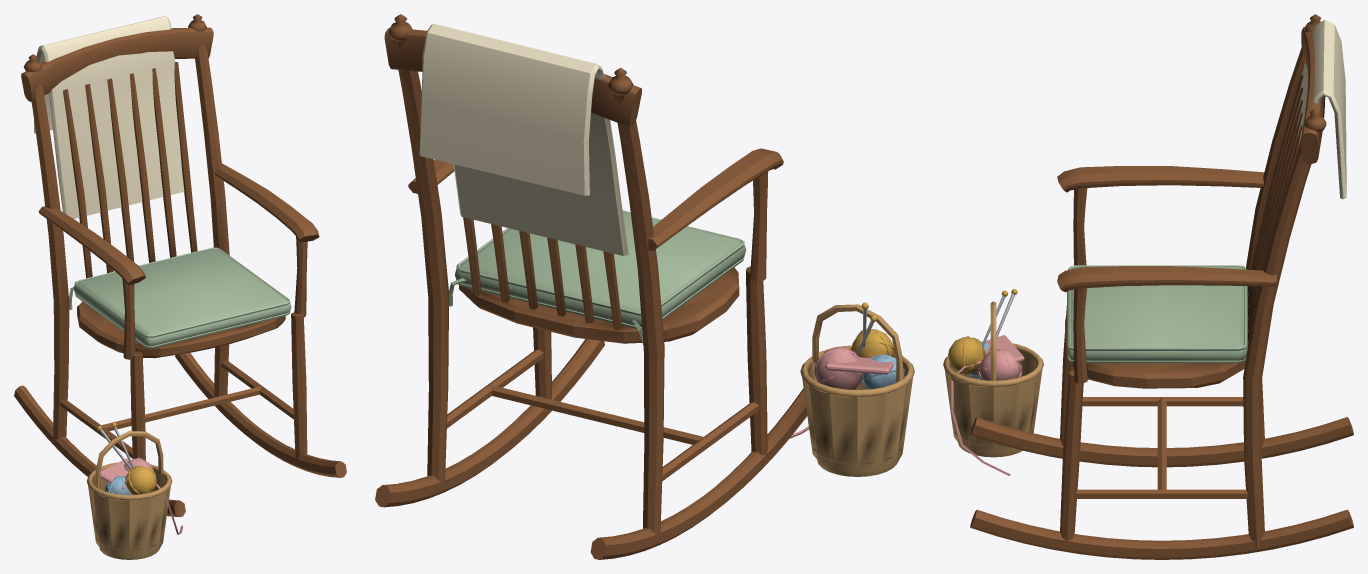
The model's file is knittingRocker.glb.
3 views of the same model, side by side, from view 1: azimuth 30°, elevation 25°; view 2: azimuth 150°, elevation 25°; view 3: azimuth 270°, elevation 25° (orthographic). The views are drawn at different scales.
Visible parts, largest first — view 1: chair, body; view 2: chair, body; view 3: chair, body.
Boxes of the visible parts, x1,y1,x2,y2 form: chair: (14,14,346,517); body: (86,422,183,559); chair: (375,14,807,559); body: (789,302,914,476); chair: (970,14,1353,559); body: (943,289,1043,475).
Size of the model in its own units: 0.7347 by 1.05 by 0.8627.
